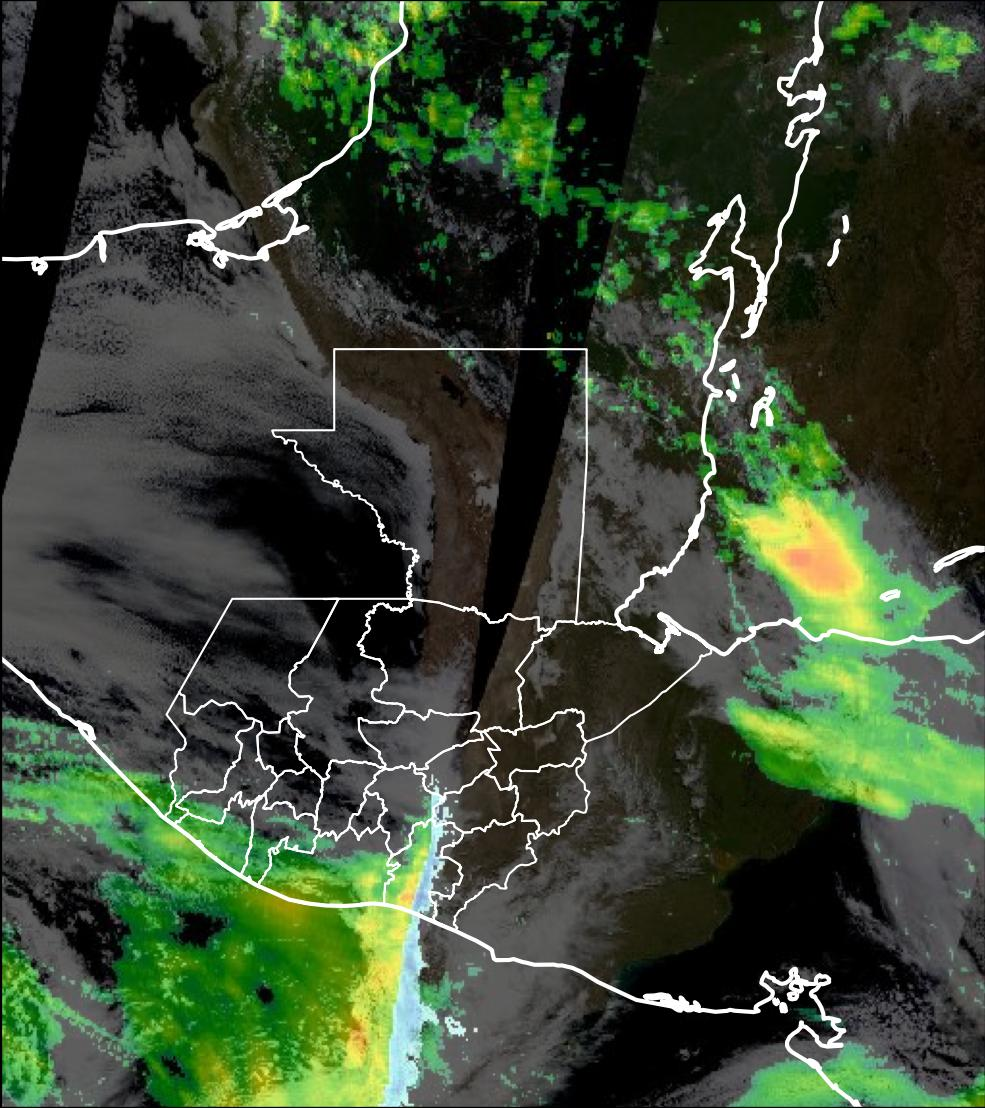precipitacion: (732, 492, 911, 619)
